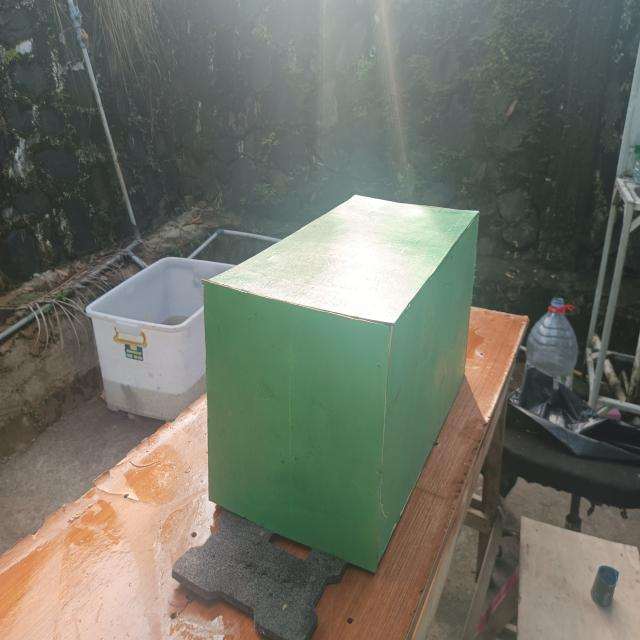green_box: (203, 184, 481, 574)
